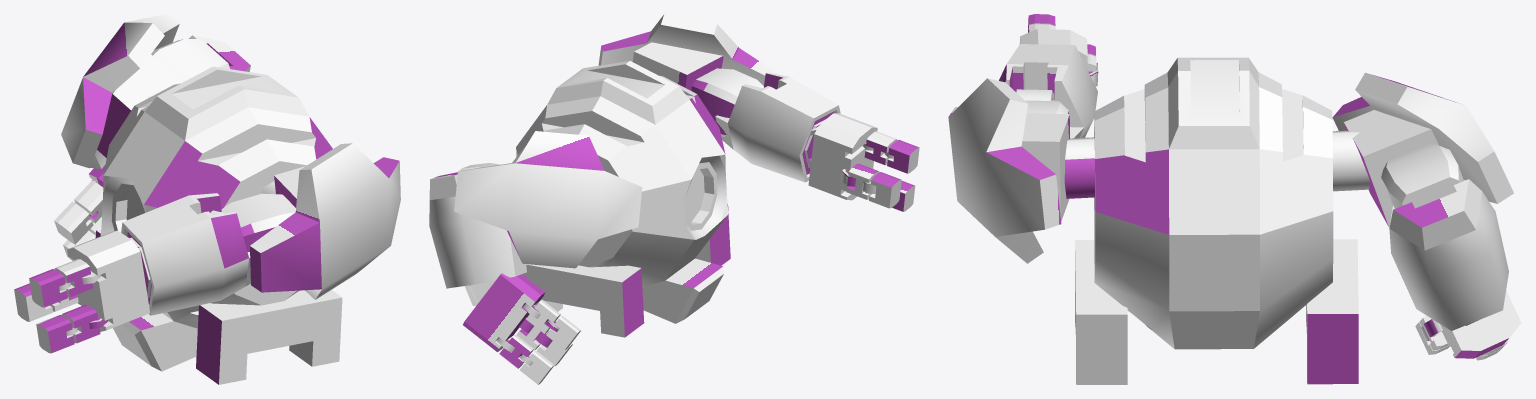
The model's file is body_shooing8.obj.
3 renders of one model, left to right at view 1: azimuth 30°, elevation 25°; view 2: azimuth 150°, elevation 25°; view 3: azimuth 270°, elevation 25°, orthographic. The views are drawn at different scales.
Visible parts, largest first — view 1: Plane001, Object006, Object002, Object007, Object008, Object004, Object003; view 2: Plane001, Object002, Object006, Object007, Object004, Object008, Object003; view 3: Plane001, Object006, Object002, Object003, Object007, Object004, Object008, Object005, Object001.
Boxes of the visible parts, x1,y1,x2,y2 form: Plane001: (95,66,342,384); Object006: (221,143,400,299); Object002: (61,14,229,169); Object007: (121,193,250,315); Object008: (14,230,149,353); Object004: (54,165,105,260); Object003: (188,35,250,71); Plane001: (516,61,730,337); Object002: (454,131,642,268); Object006: (598,14,780,137); Object007: (715,72,840,182); Object004: (463,273,580,384); Object008: (806,113,919,211); Object003: (429,172,526,288); Plane001: (1075,57,1358,384); Object006: (948,78,1069,263); Object002: (1332,72,1513,227); Object003: (1389,179,1508,330); Object007: (999,44,1097,138); Object004: (1415,290,1521,360); Object008: (1019,14,1098,86); Object005: (1064,137,1094,198); Object001: (1332,130,1369,191).
Size of the model in its own units: 168 by 112 by 191.
